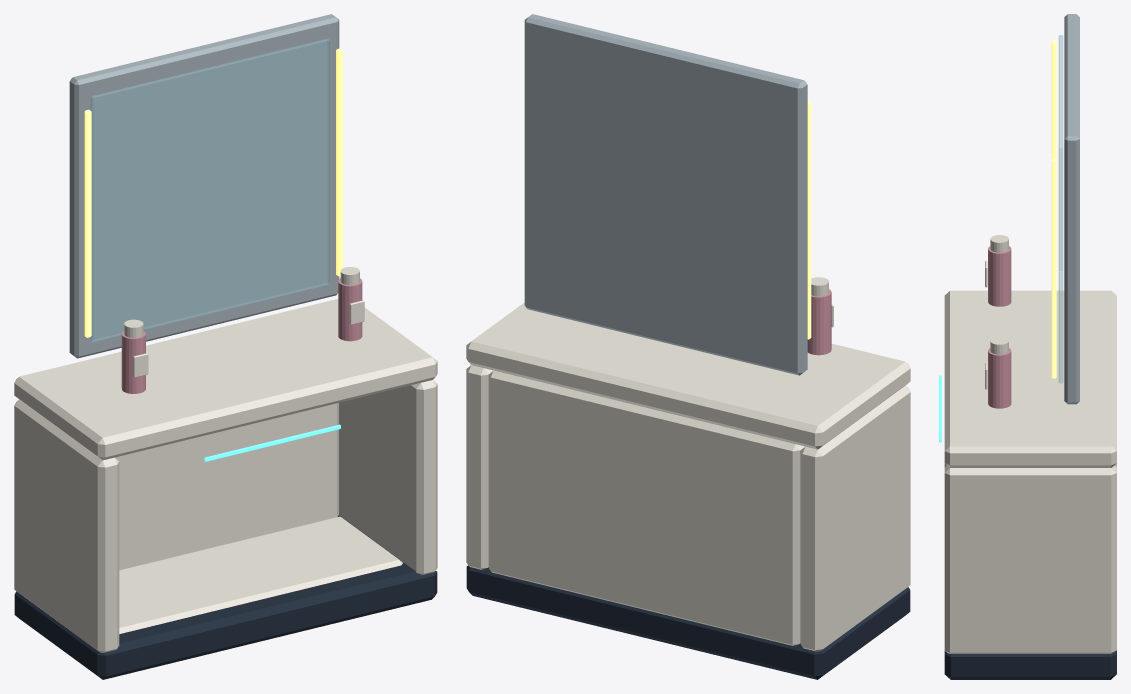
Rendered from mall_05.glb.
3 renders of one model, left to right at view 1: azimuth 30°, elevation 25°; view 2: azimuth 150°, elevation 25°; view 3: azimuth 270°, elevation 25°, orthographic. The views are drawn at different scales.
Visible parts, largest first — view 1: MirrorFrame, FrostedMirror, Side (×2), Top, Back, Bottom, Base, MirrorLamp (×2), Bottle (×2), StatusLight; view 2: MirrorFrame, Back, Top, Side (×2), Base, Bottle, MirrorLamp; view 3: Side, Top, MirrorFrame, Base, Bottle (×2), FrostedMirror, MirrorLamp (×2), BottleCap (×2).
Boxes of the visible parts, x1,y1,x2,y2 form: MirrorFrame: (69, 14, 339, 358); FrostedMirror: (90, 38, 329, 342); Side (×2): (14, 380, 437, 652); Top: (14, 299, 437, 460); Back: (115, 403, 338, 570); Bottom: (119, 516, 402, 633); Base: (14, 515, 437, 679); MirrorLamp (×2): (84, 48, 343, 337); Bottle (×2): (121, 278, 362, 393); StatusLight: (204, 424, 340, 461); MirrorFrame: (524, 14, 807, 375); Back: (488, 370, 804, 645); Top: (466, 302, 910, 449); Side (×2): (466, 365, 910, 651); Base: (466, 565, 910, 679); Bottle: (807, 289, 831, 355); MirrorLamp: (807, 100, 811, 339); Side: (944, 465, 1116, 653); Top: (944, 290, 1116, 467); MirrorFrame: (1064, 14, 1079, 404); Base: (944, 650, 1116, 679); Bottle (×2): (988, 246, 1011, 408); FrostedMirror: (1058, 35, 1063, 383); MirrorLamp (×2): (1051, 40, 1056, 378); BottleCap (×2): (990, 235, 1008, 354).
Size of the model in its own units: 1.1 by 1.69 by 0.516.
